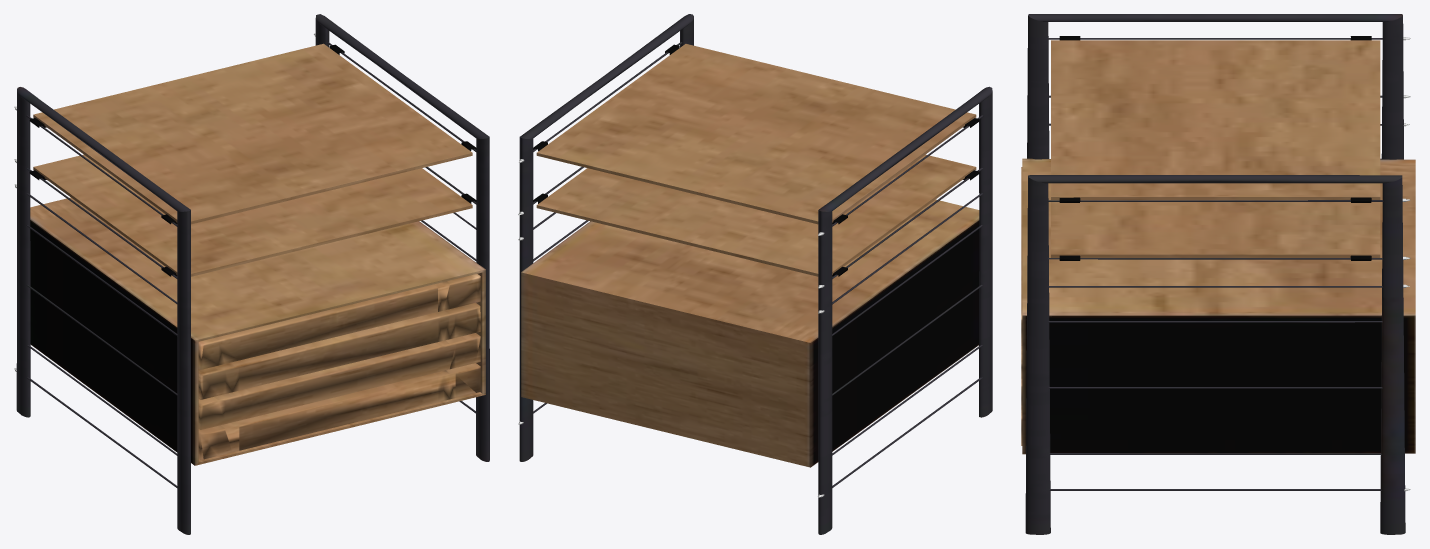
Rendered from ph-drawer-cabinet.glb.
The picture shows the model from 3 angles, left to right: view 1: azimuth 30°, elevation 25°; view 2: azimuth 150°, elevation 25°; view 3: azimuth 270°, elevation 25°; orthographic projection. The views are drawn at different scales.
Visible parts, largest first — view 1: drawer_cabinet; view 2: drawer_cabinet; view 3: drawer_cabinet.
Part boxes in pixels (left/top/right/bottom): drawer_cabinet: left=14, top=14, right=489, bottom=534; drawer_cabinet: left=518, top=14, right=992, bottom=534; drawer_cabinet: left=1021, top=14, right=1415, bottom=534.
Size of the model in its own units: 1 by 1 by 1.
Materials: 1 (1 with a texture image).
